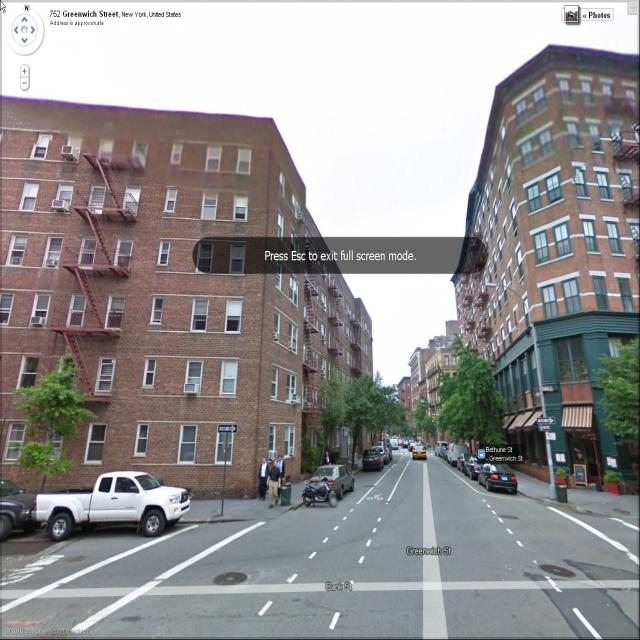b_1: (1, 112, 292, 462), (443, 36, 635, 424)
b_2: (435, 46, 640, 492), (303, 230, 377, 486)
